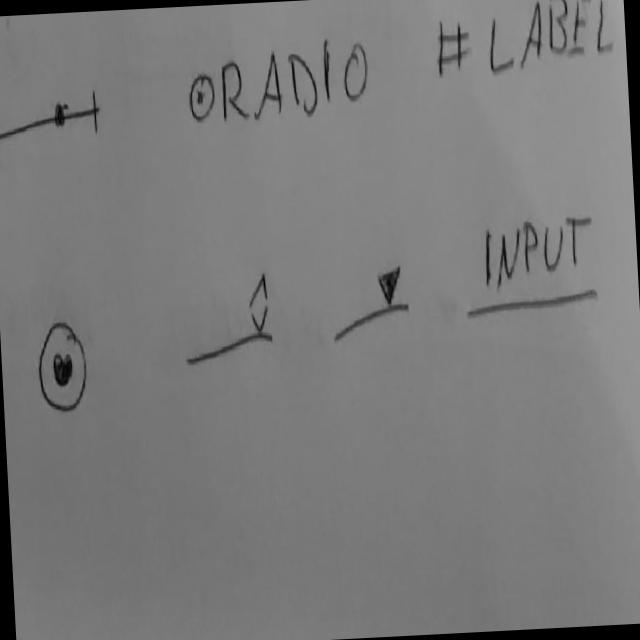icon-button: (34, 318, 92, 419)
input: (459, 213, 605, 326)
label: (433, 1, 620, 86)
number-input: (181, 269, 280, 374)
radio: (186, 30, 377, 131)
select: (327, 260, 415, 351)
slider: (1, 85, 105, 171)
